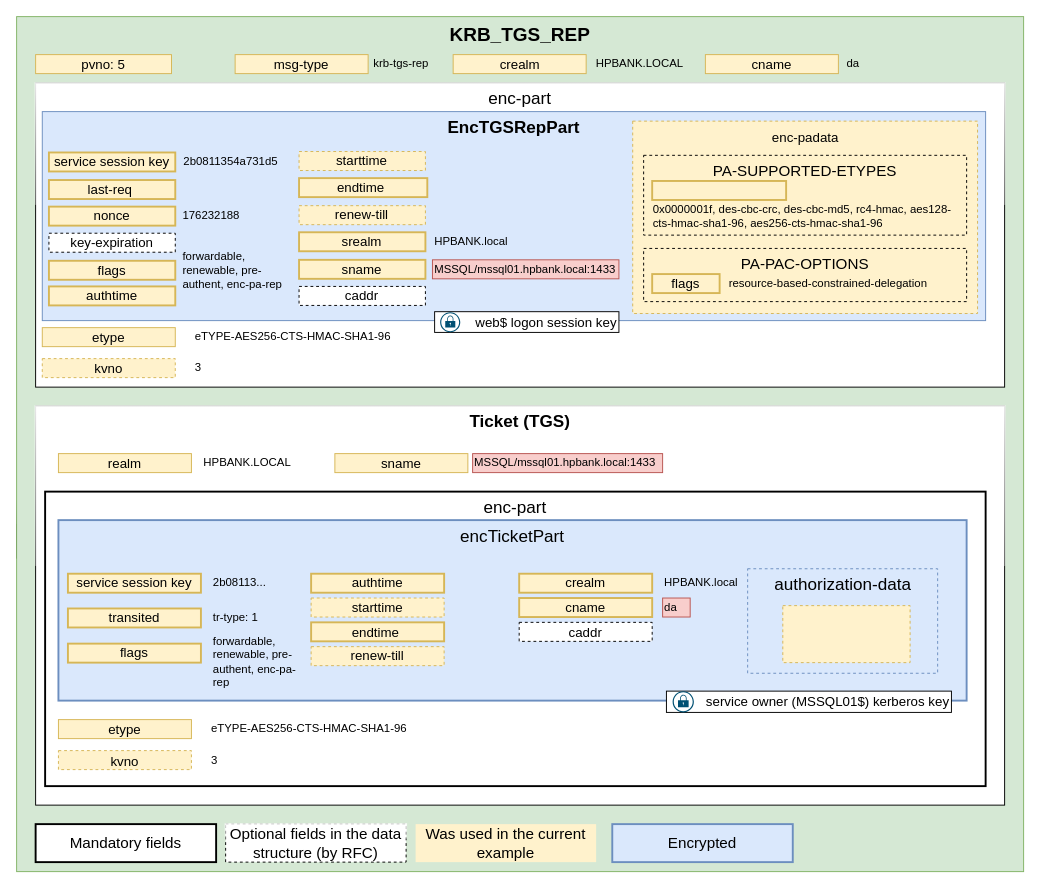
Image size: 1040x888. Some labels were removed from this diagram. The shapes that lost their labels are listed below. From the top down, each one's centre as x and y in pixels, then its label:
At point (719, 190): "SupportedEnctypes".
At point (846, 634): "PAC (da)".
